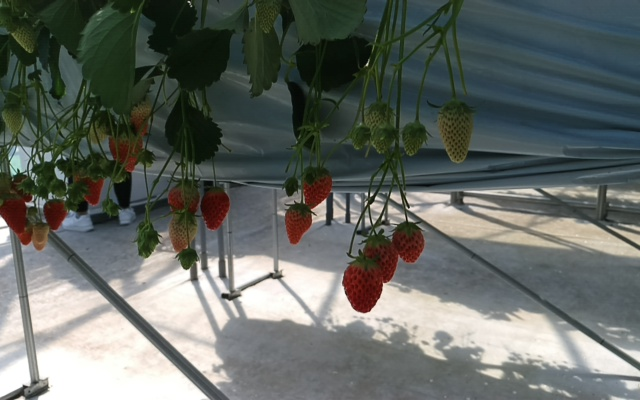GreenStrawberry: (434, 100, 475, 166), (5, 7, 44, 55), (166, 207, 197, 254), (400, 120, 429, 157), (364, 100, 393, 137), (368, 124, 396, 157), (2, 98, 26, 136), (129, 103, 151, 141), (349, 123, 372, 150), (31, 221, 49, 249), (177, 247, 197, 270)
MatureStrawberry: (341, 254, 384, 315), (360, 233, 399, 283), (106, 122, 143, 172), (69, 161, 108, 208), (165, 180, 203, 221), (302, 165, 334, 212), (392, 222, 426, 265), (200, 186, 231, 232), (283, 202, 314, 246), (1, 189, 29, 235), (41, 196, 69, 233), (7, 171, 38, 202)
